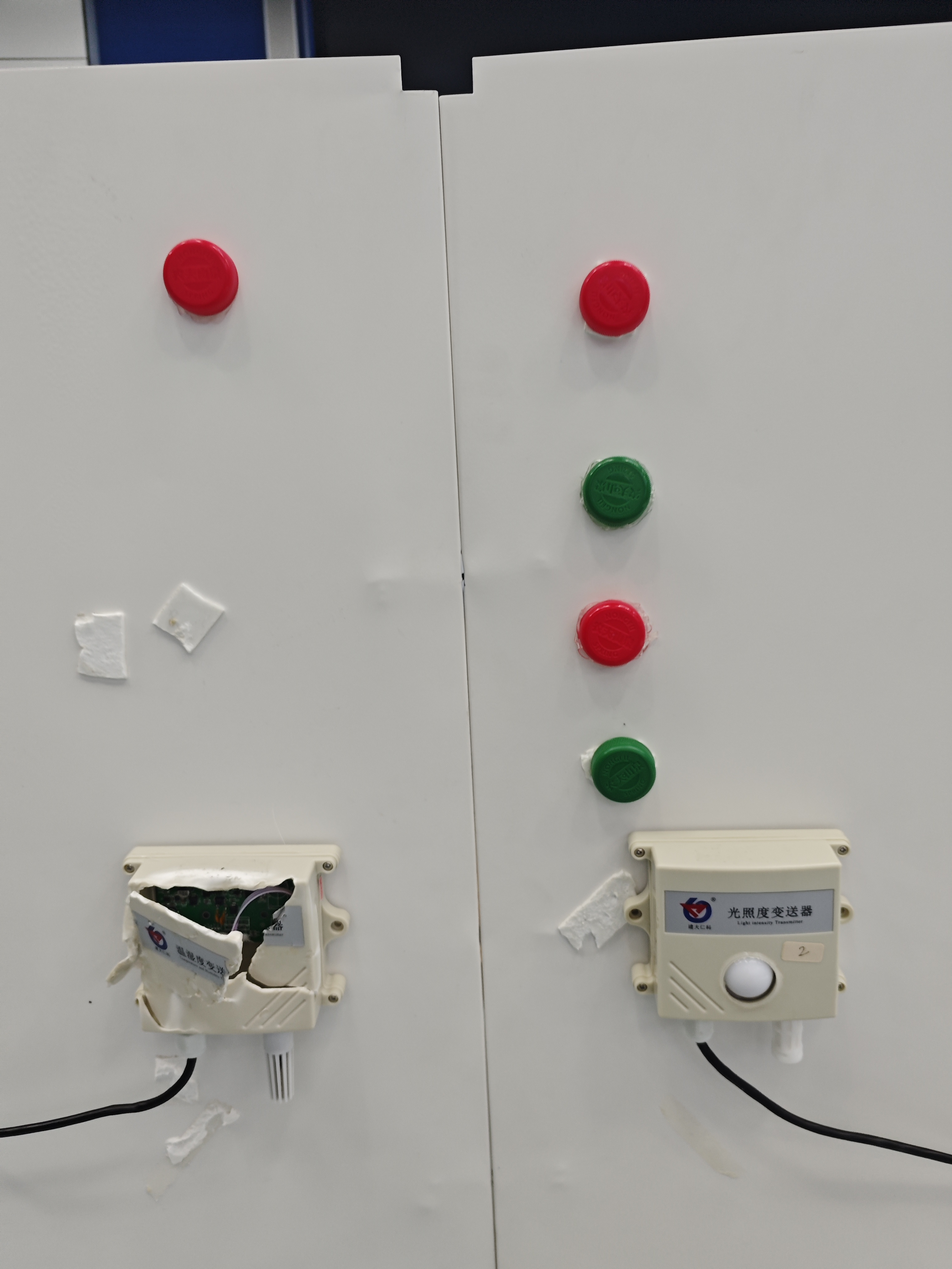red_warning: (550, 240, 665, 362), (142, 214, 261, 326), (555, 571, 669, 684)
sensor_damage: (78, 827, 374, 1115)
